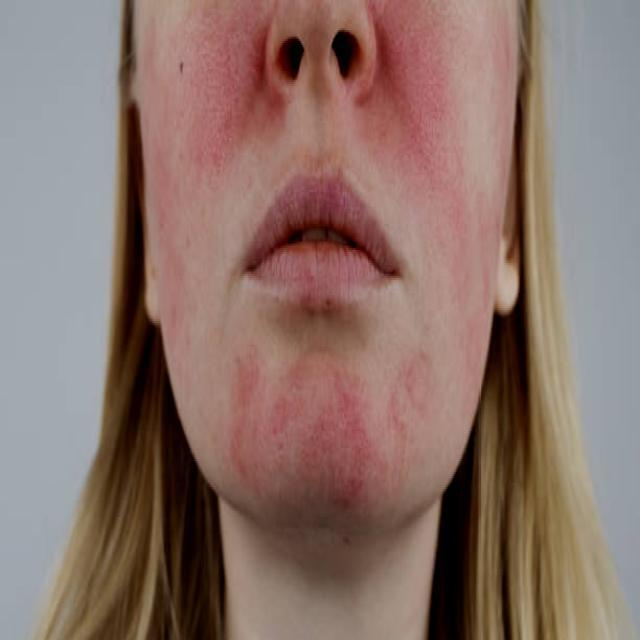Rosacea: (221, 346, 427, 510), (362, 0, 473, 246), (152, 3, 268, 230)
